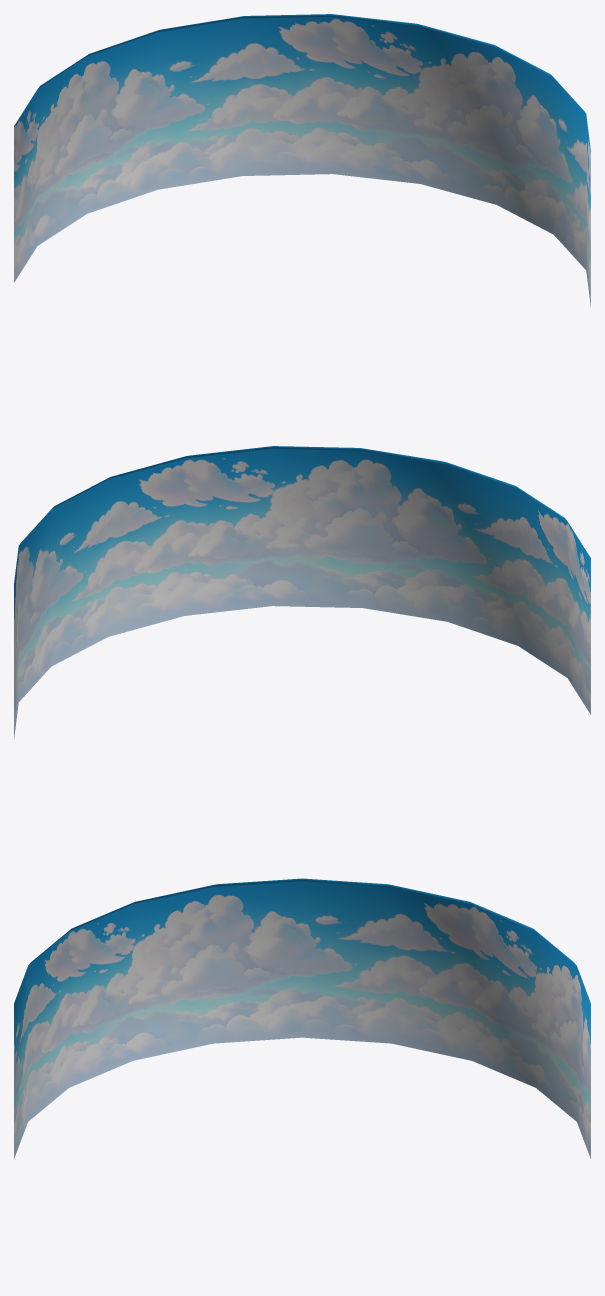
File: sky.glb
3 renders of one model, top to bottom at view 1: azimuth 30°, elevation 25°; view 2: azimuth 150°, elevation 25°; view 3: azimuth 270°, elevation 25°, orthographic.
Visible parts, largest first — view 1: Cylinder009; view 2: Cylinder009; view 3: Cylinder009.
Boxes of the visible parts, x1=… form: Cylinder009: x1=14, y1=14, x2=590, y2=307; Cylinder009: x1=14, y1=446, x2=590, y2=739; Cylinder009: x1=14, y1=878, x2=590, y2=1158.
Bounding box in the file's own units: 641 × 211 × 641.
Materials: 1 (1 with a texture image).
